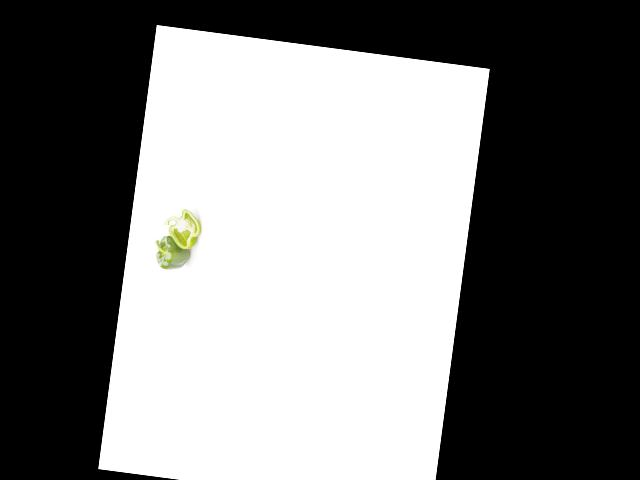bell_pepper: (159, 204, 202, 252)
